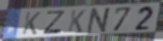2: (133, 4, 156, 32)
7: (113, 6, 134, 33)
K: (21, 11, 42, 36), (67, 9, 88, 34)
N: (85, 6, 114, 35)
Z: (41, 10, 66, 35)
